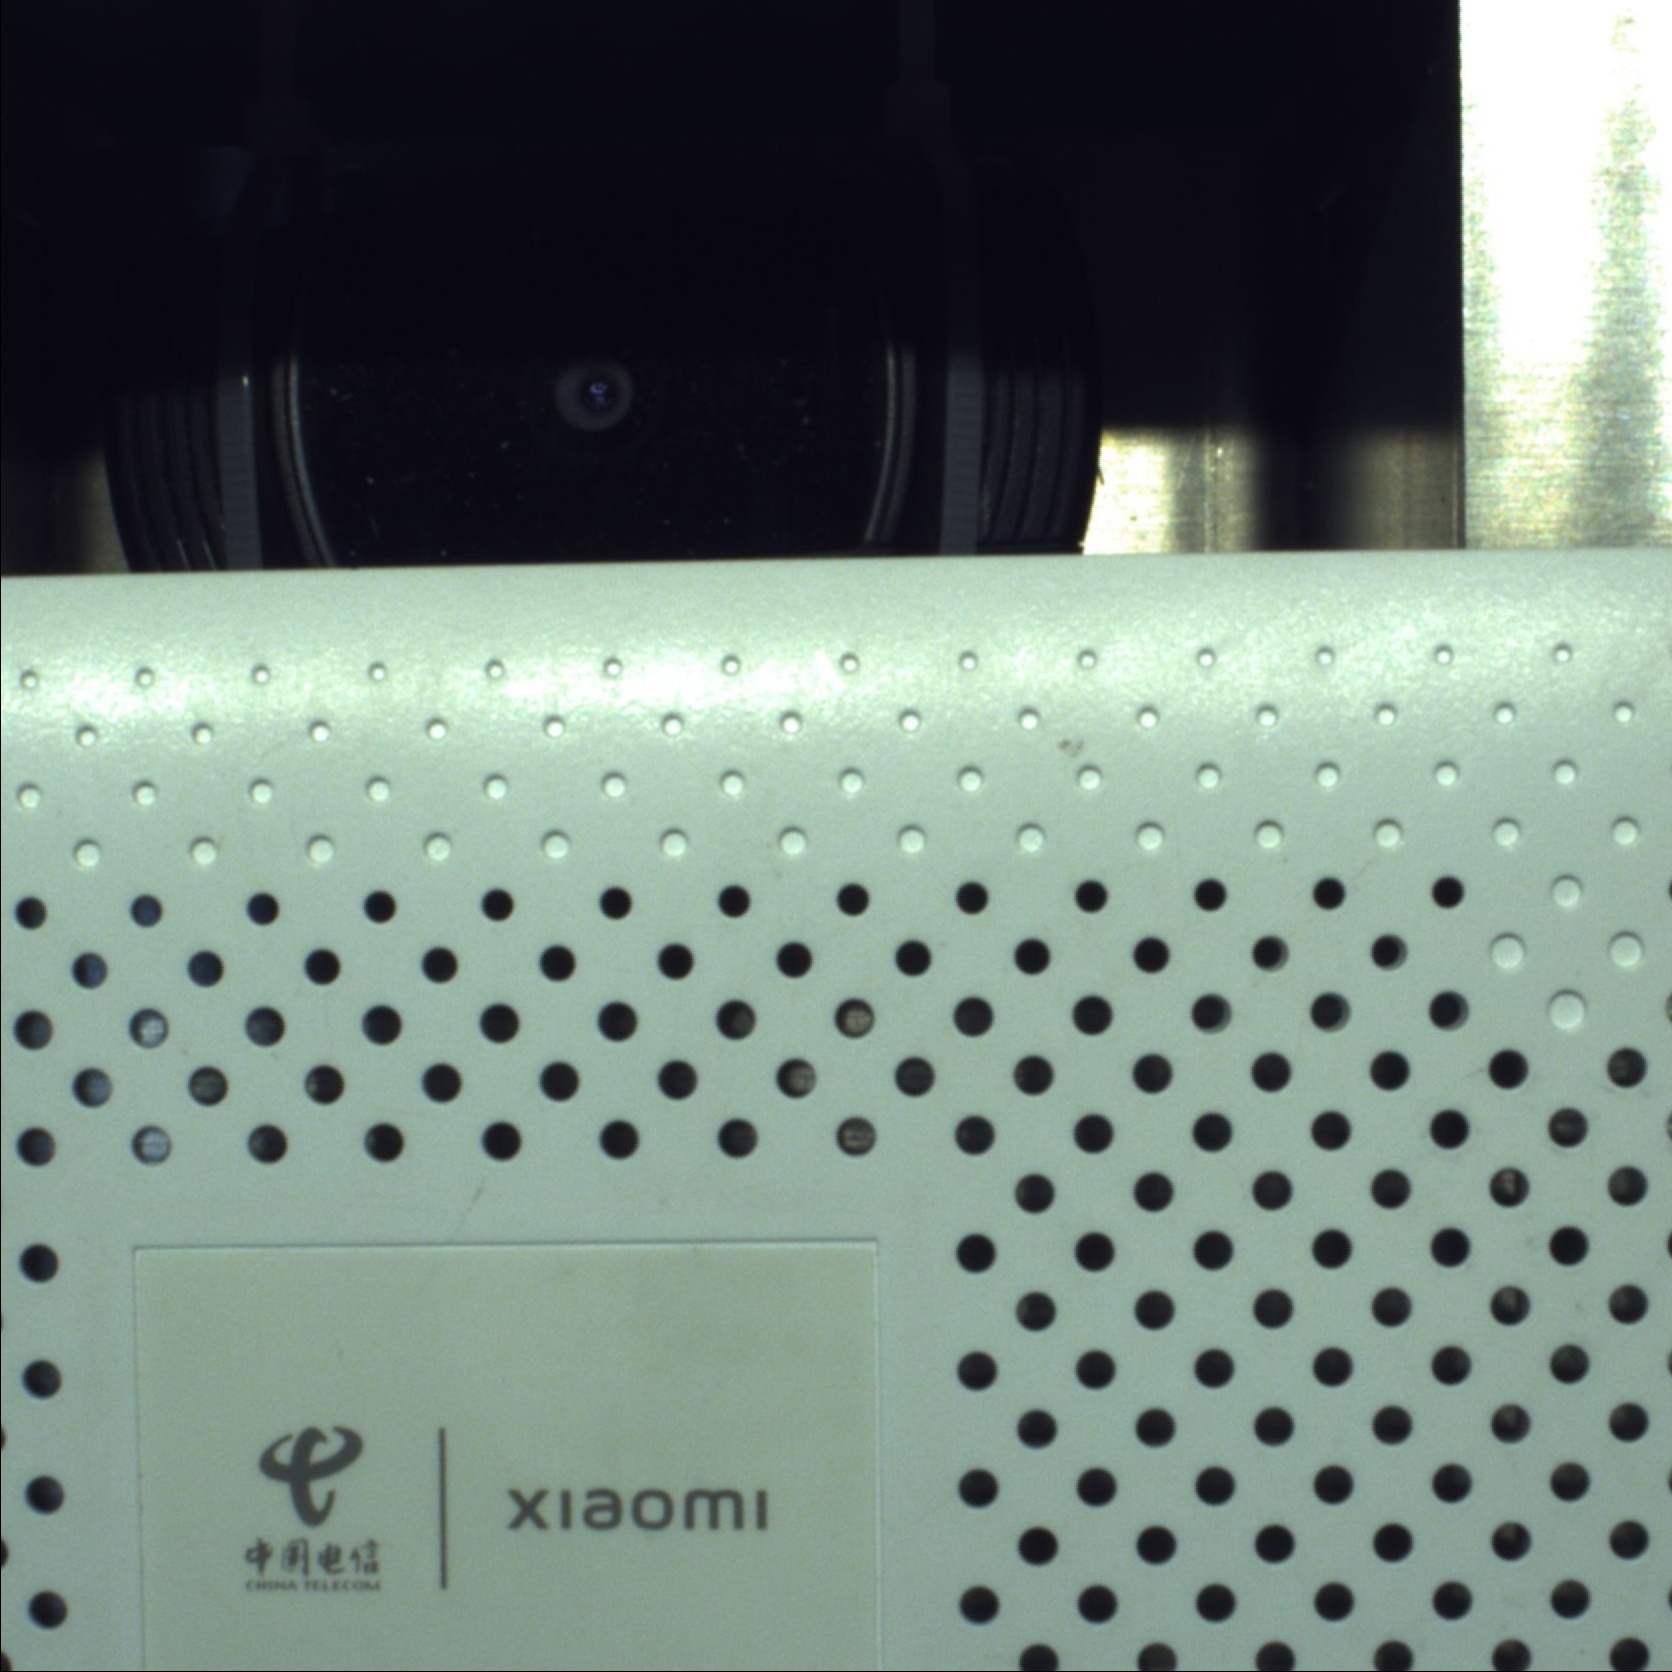MAA_Telecom: (207, 1421, 776, 1611)
